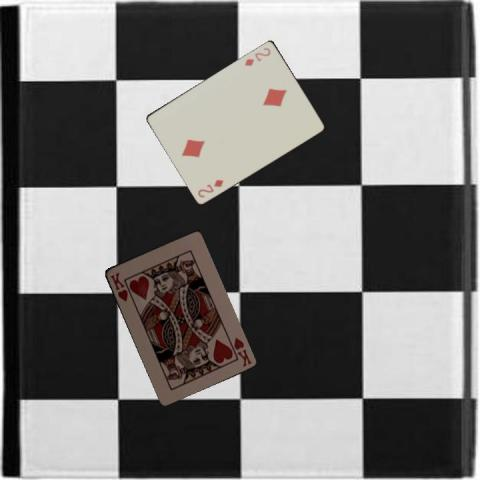2d: (241, 44, 272, 67), (194, 176, 224, 199)
Kh: (107, 269, 129, 303), (231, 334, 253, 368)
